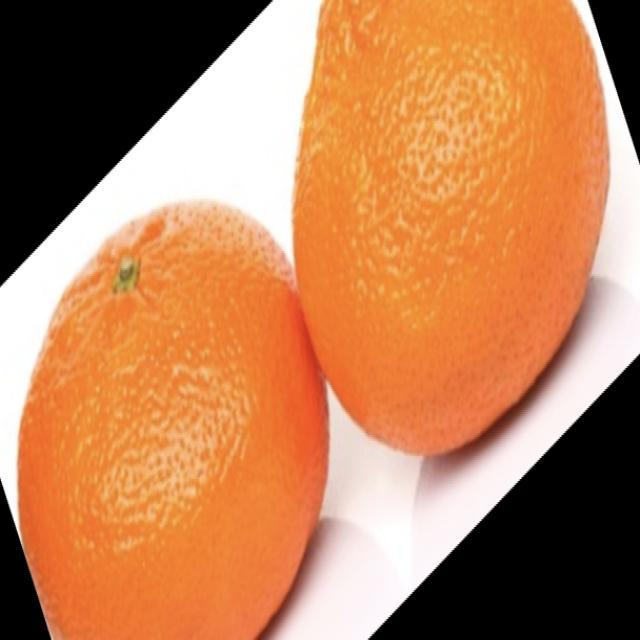Orange: (290, 0, 611, 457), (15, 197, 330, 639)
